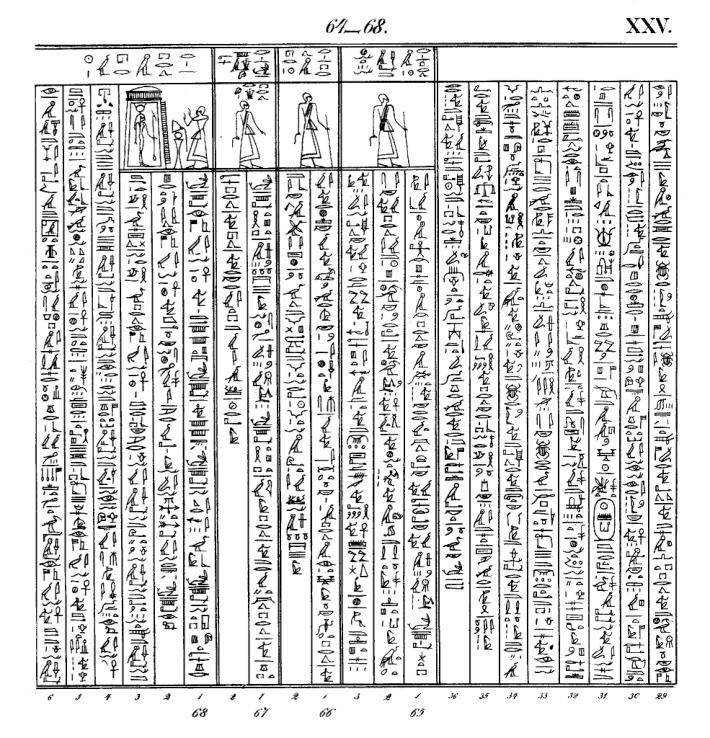circle: (592, 499, 619, 541)
